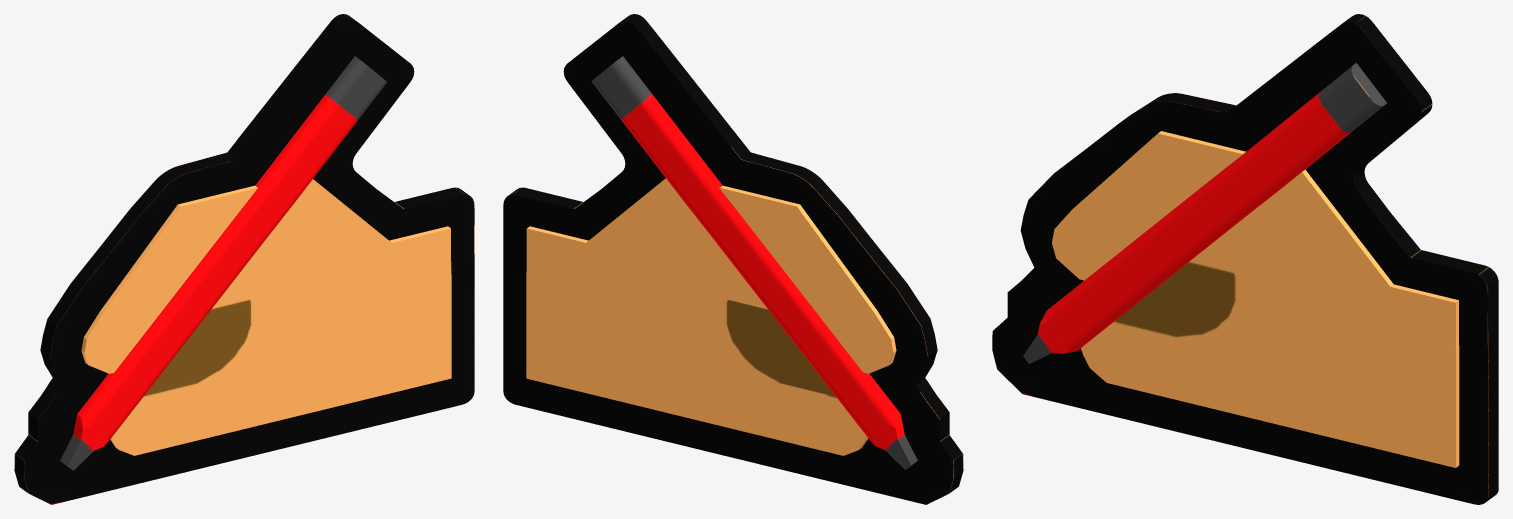
File: Writing_badge.glb
3 views of the same model, side by side, from view 1: azimuth 30°, elevation 25°; view 2: azimuth 150°, elevation 25°; view 3: azimuth 330°, elevation 25° (orthographic). The views are drawn at different scales.
Visible parts, largest first — view 1: Writing Badge; view 2: Writing Badge; view 3: Writing Badge.
Boxes of the visible parts, x1=… form: Writing Badge: x1=14, y1=14, x2=474, y2=504; Writing Badge: x1=503, y1=14, x2=963, y2=504; Writing Badge: x1=992, y1=14, x2=1498, y2=504.
Bounding box in the file's own units: 0.0898 × 0.0782 × 0.00844.
Materials: 1 (1 with a texture image).
